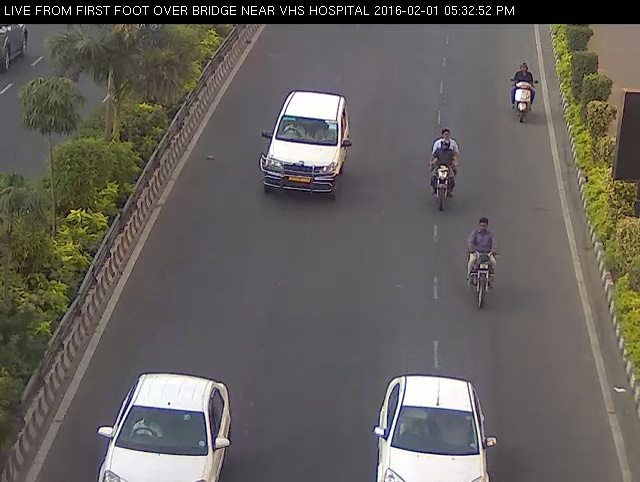Car: (84, 360, 246, 482), (367, 357, 502, 482), (244, 75, 360, 212)
Person: (463, 216, 504, 316), (422, 120, 464, 216), (503, 50, 542, 136)
